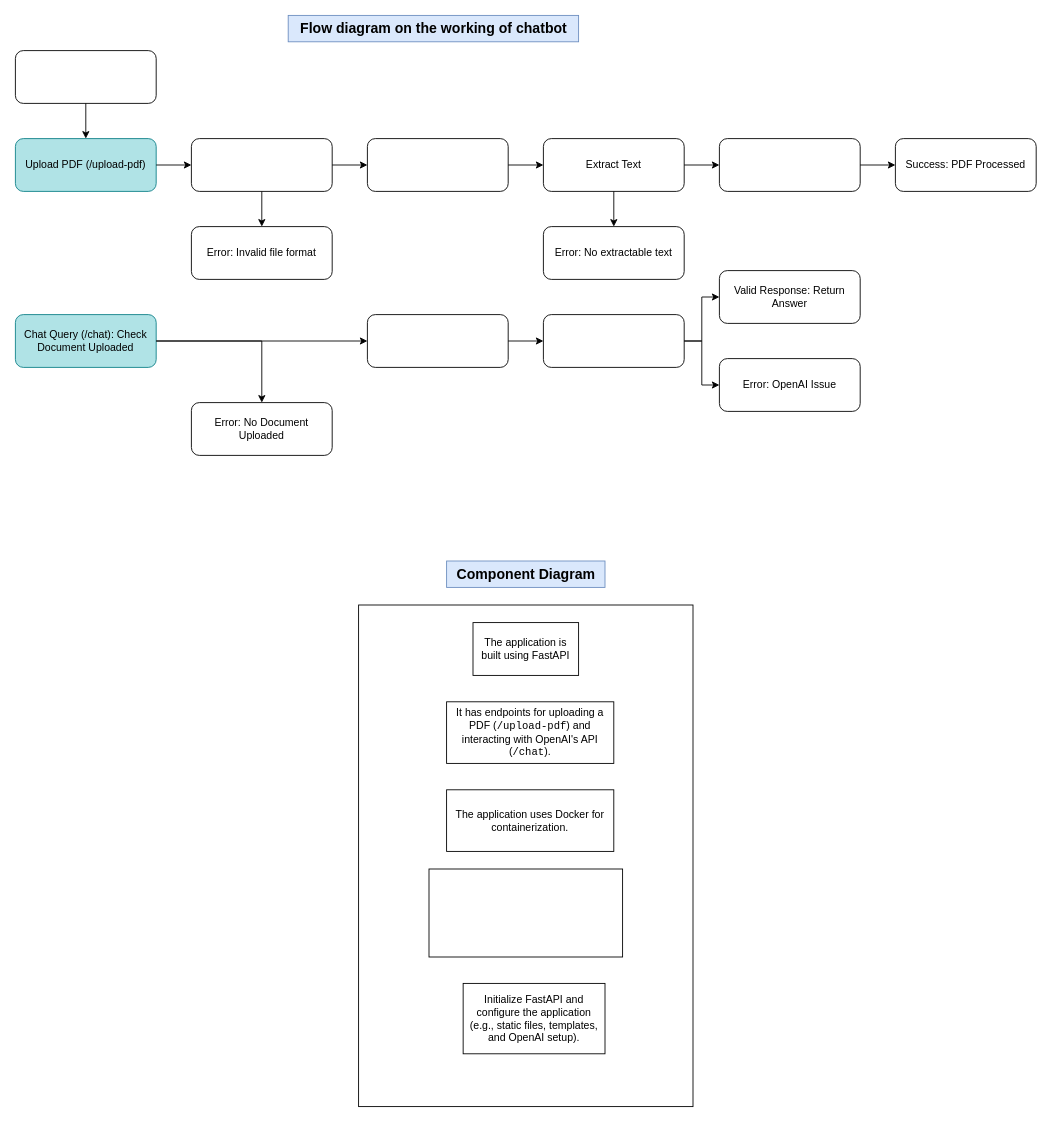
Image size: 1052x1122. Some labels were removed from this diagram. The shapes that lost their labels are listed below. From the top down, each one's centre as x and y in pixels, then its label:
(85,76): User interacts with the system
(261,164): Validate File
(437,164): Process File with PdfReader
(789,164): Store Text in Document Content
(437,340): Process Query
(613,340): Query OpenAI API
(525,912): Initialization : Load dependencies from requirements.txt
